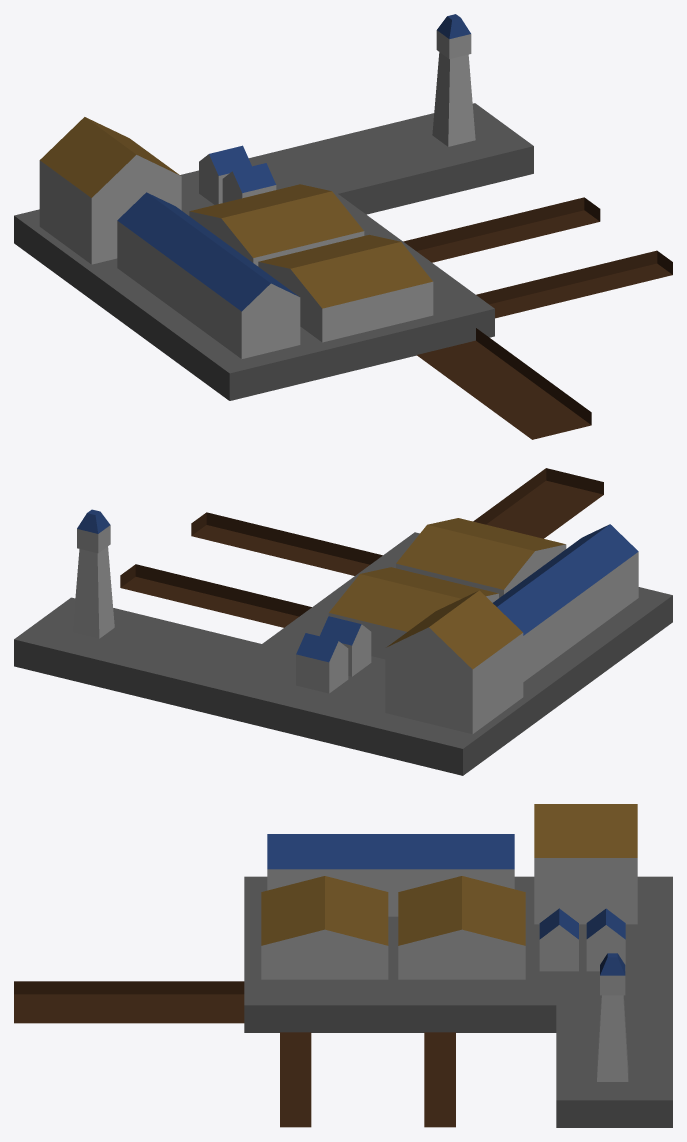
Rendered from Port2.dae.
The picture shows the model from 3 angles, top to bottom: view 1: azimuth 30°, elevation 25°; view 2: azimuth 150°, elevation 25°; view 3: azimuth 270°, elevation 25°; orthographic projection. The views are drawn at different scales.
Parts seen in each view (by area): view 1: Port2; view 2: Port2; view 3: Port2.
Part boxes in pixels (x1,y1,x2,y2): Port2: (14,14,672,439); Port2: (14,468,672,775); Port2: (14,804,672,1127).
Bounding box in the file's own units: 10.6 × 13.2 × 3.26.
